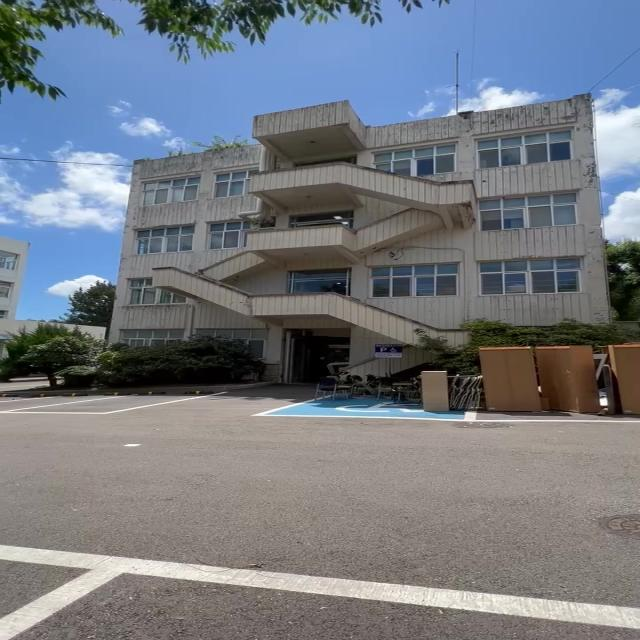building: (96, 98, 622, 326)
